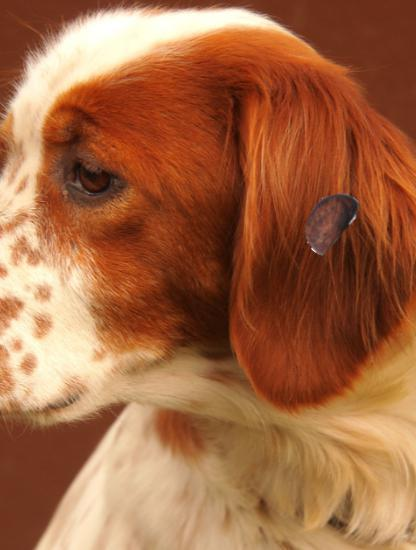Chestnut: (295, 186, 363, 254)
